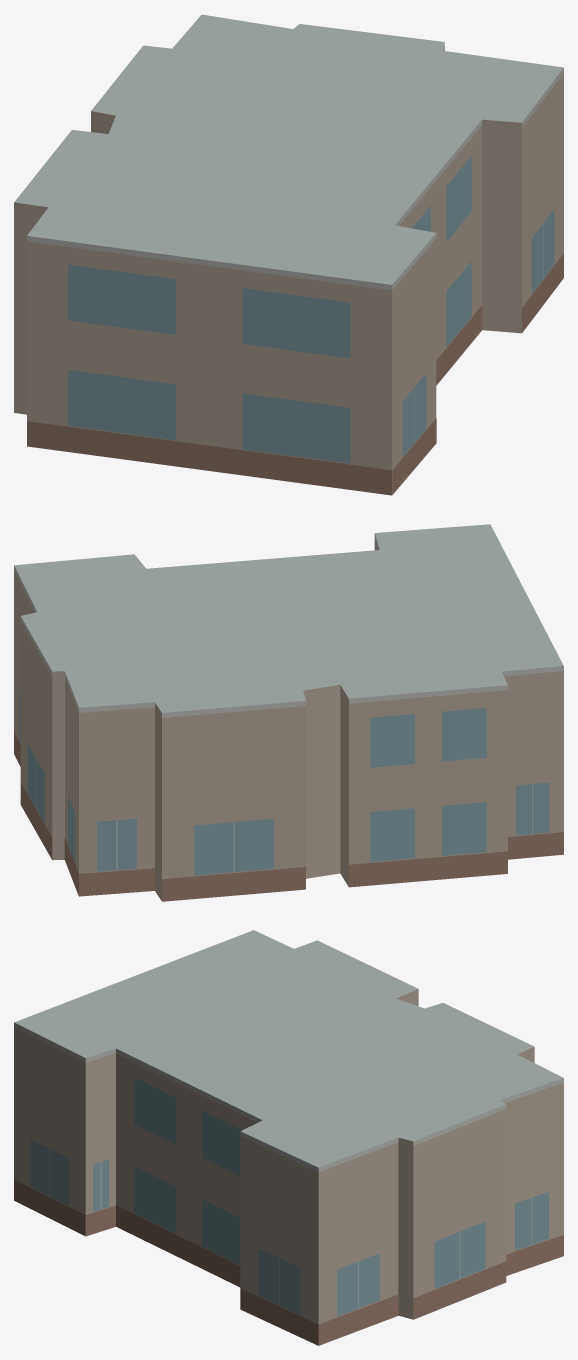
The model's file is survey-upis-32849037.glb.
3 views of the same model, one above another, from view 1: azimuth 30°, elevation 25°; view 2: azimuth 150°, elevation 25°; view 3: azimuth 270°, elevation 25° (orthographic). The views are drawn at different scales.
Parts seen in each view (by area): view 1: survey-upis-32849037.tmp; view 2: survey-upis-32849037.tmp; view 3: survey-upis-32849037.tmp.
Part boxes in pixels (box(x1,y1,x2,y2)): survey-upis-32849037.tmp: box(14, 14, 563, 495); survey-upis-32849037.tmp: box(14, 524, 563, 901); survey-upis-32849037.tmp: box(14, 930, 563, 1345).
Bounding box in the file's own units: 26.32 × 9.2 × 25.73.
